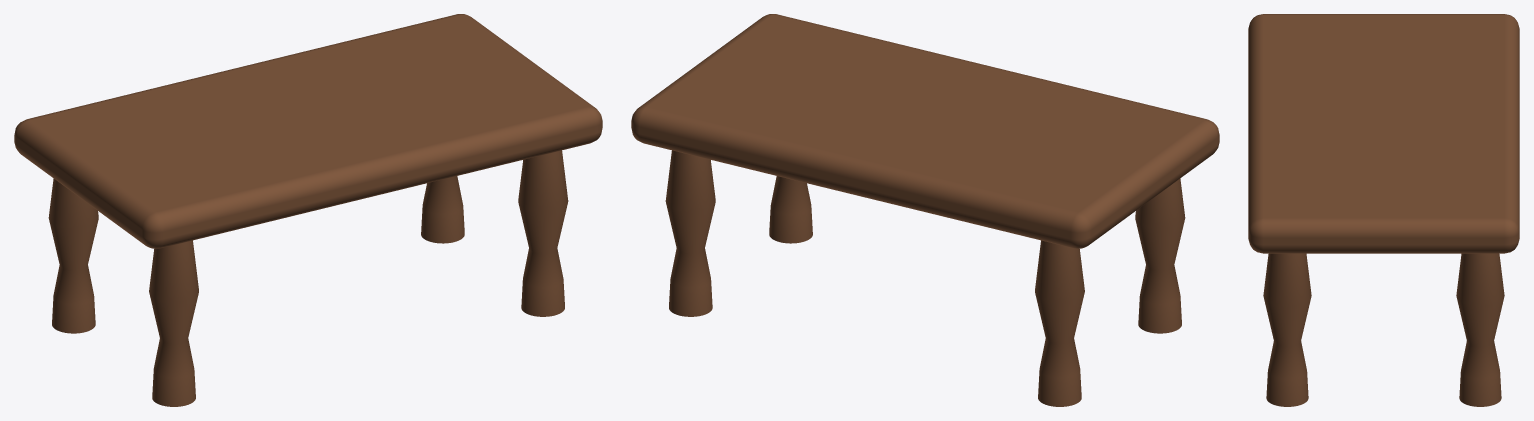
The model's file is palace-table.glb.
The picture shows the model from 3 angles, left to right: view 1: azimuth 30°, elevation 25°; view 2: azimuth 150°, elevation 25°; view 3: azimuth 270°, elevation 25°; orthographic projection. The views are drawn at different scales.
Visible parts, largest first — view 1: palace-table; view 2: palace-table; view 3: palace-table.
Boxes of the visible parts, left/top/right/bottom form: palace-table: left=14, top=14, right=602, bottom=406; palace-table: left=631, top=14, right=1219, bottom=406; palace-table: left=1248, top=14, right=1519, bottom=406.
Size of the model in its own units: 3.38 by 1.42 by 1.8.
